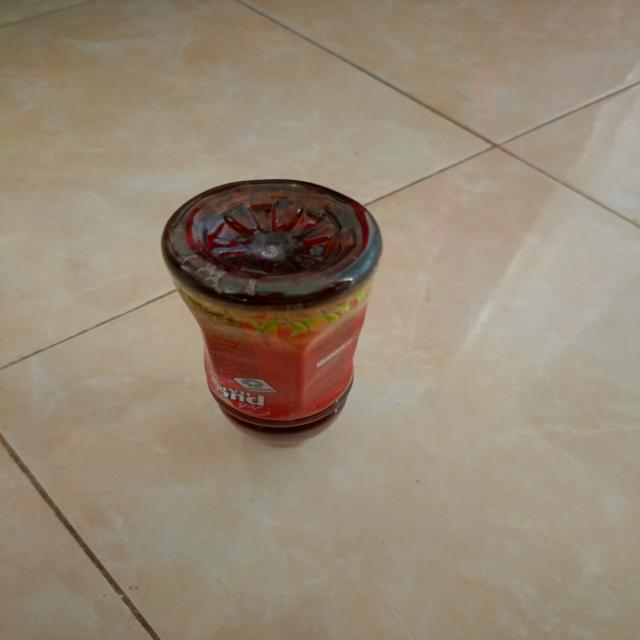teh-pucuk: (161, 174, 383, 452)
